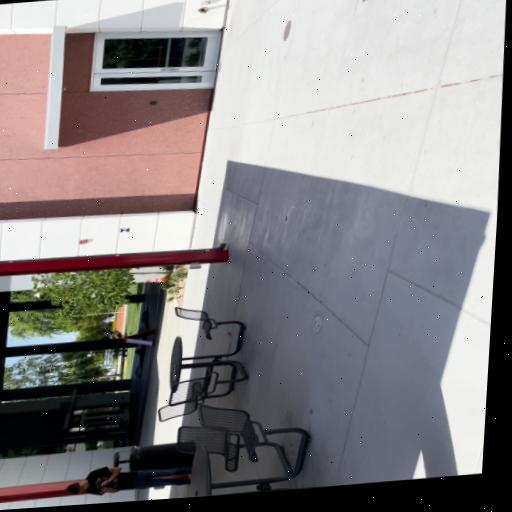target2: (120, 227, 130, 233)
